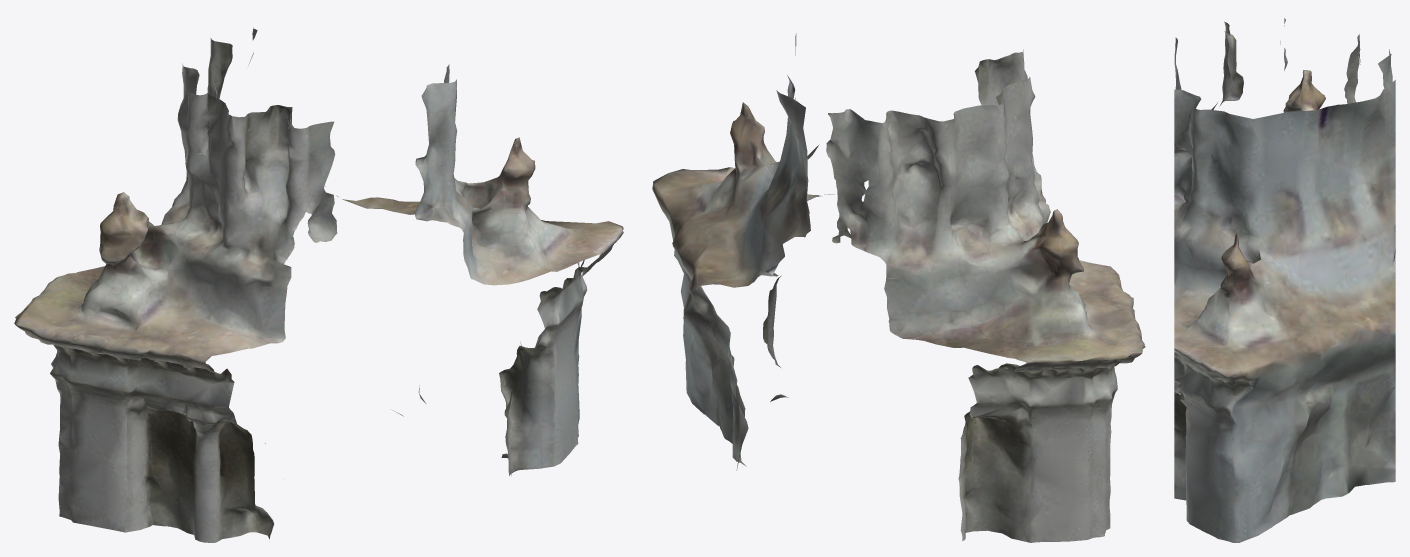
3 views of the same model, side by side, from view 1: azimuth 30°, elevation 25°; view 2: azimuth 150°, elevation 25°; view 3: azimuth 270°, elevation 25° (orthographic). The views are drawn at different scales.
Bounding box in the file's own units: 9.04 × 6.31 × 3.41.
Materials: 1 (1 with a texture image).
